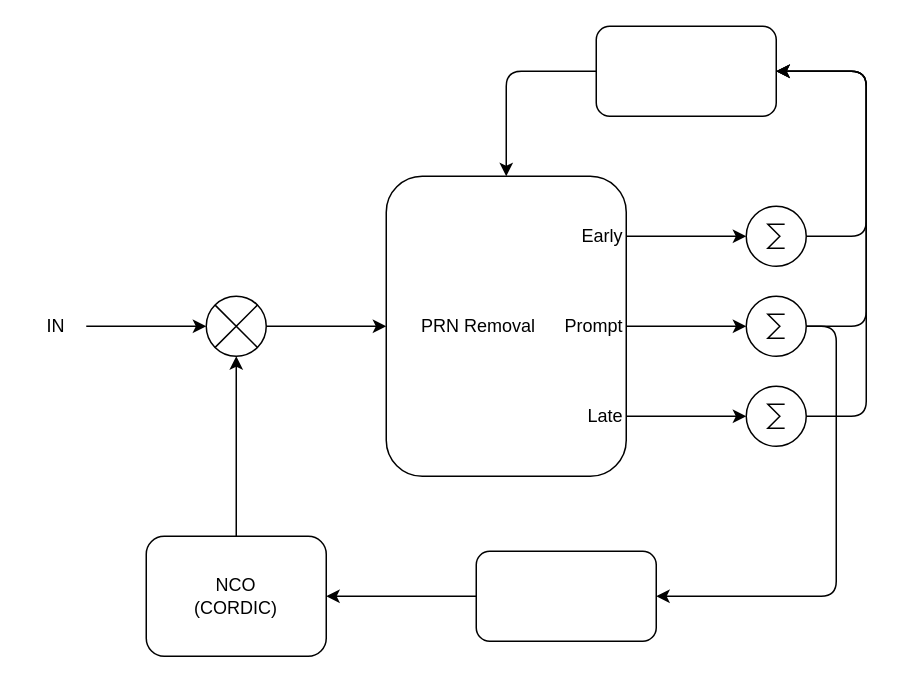
Some shapes in this 905 by 683 pixel diagram are drawn without their labels. Each missing label, with the box of its shape:
Carrier Discriminator: (475, 550, 656, 641)
Code Discriminator: (595, 25, 776, 116)
